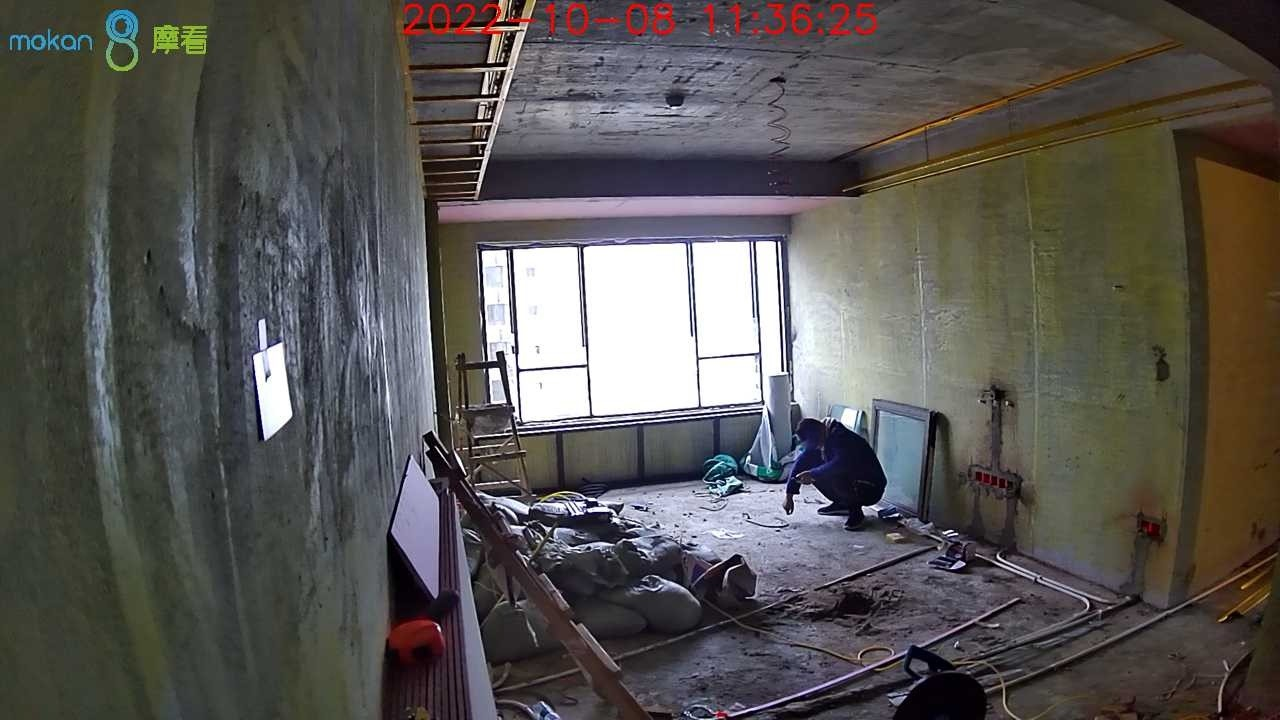people: (784, 419, 886, 530)
window: (480, 242, 784, 416)
